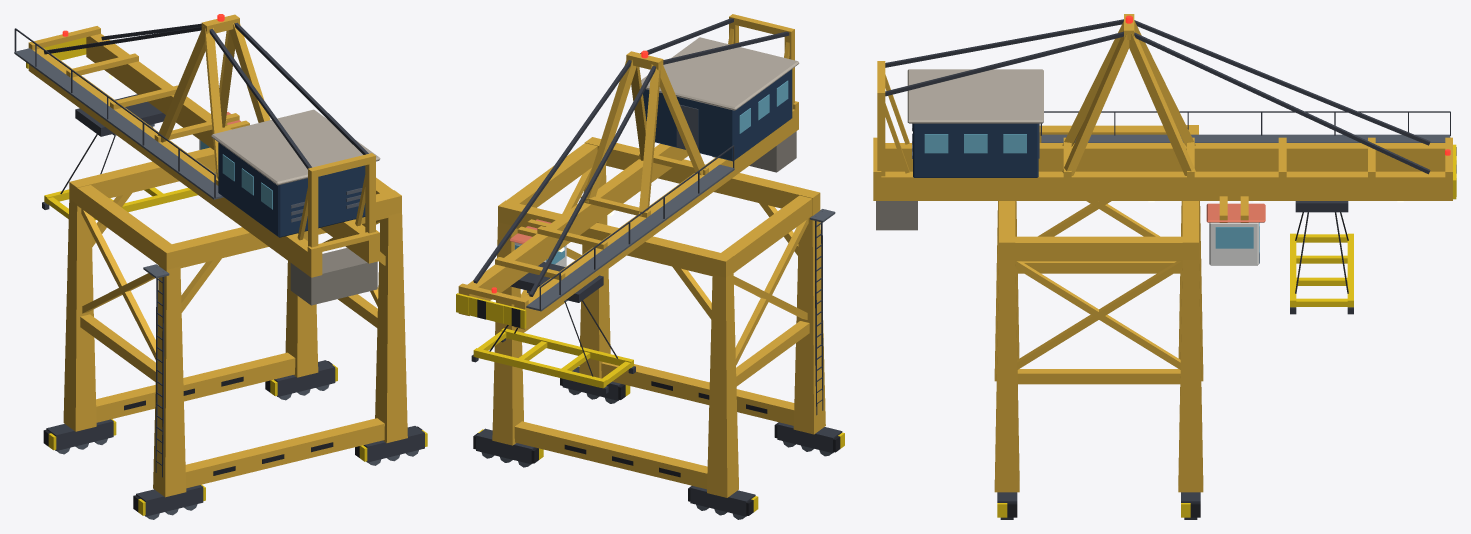
The model's file is dock_crane.glb.
3 views of the same model, side by side, from view 1: azimuth 30°, elevation 25°; view 2: azimuth 150°, elevation 25°; view 3: azimuth 270°, elevation 25° (orthographic). The views are drawn at different scales.
Visible parts, largest first — view 1: Crane; view 2: Crane; view 3: Crane.
Boxes of the visible parts, <box> form: Crane: <box>14,14,427,519</box>; Crane: <box>456,14,844,519</box>; Crane: <box>873,14,1456,519</box>.
Bounding box in the file's own units: 12.84 × 18.42 × 22.23.
